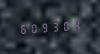four: (73, 18, 83, 31)
nine: (40, 20, 50, 33)
six: (17, 22, 27, 35)
three: (51, 19, 61, 33)
zero: (28, 21, 38, 34), (62, 19, 72, 32)
